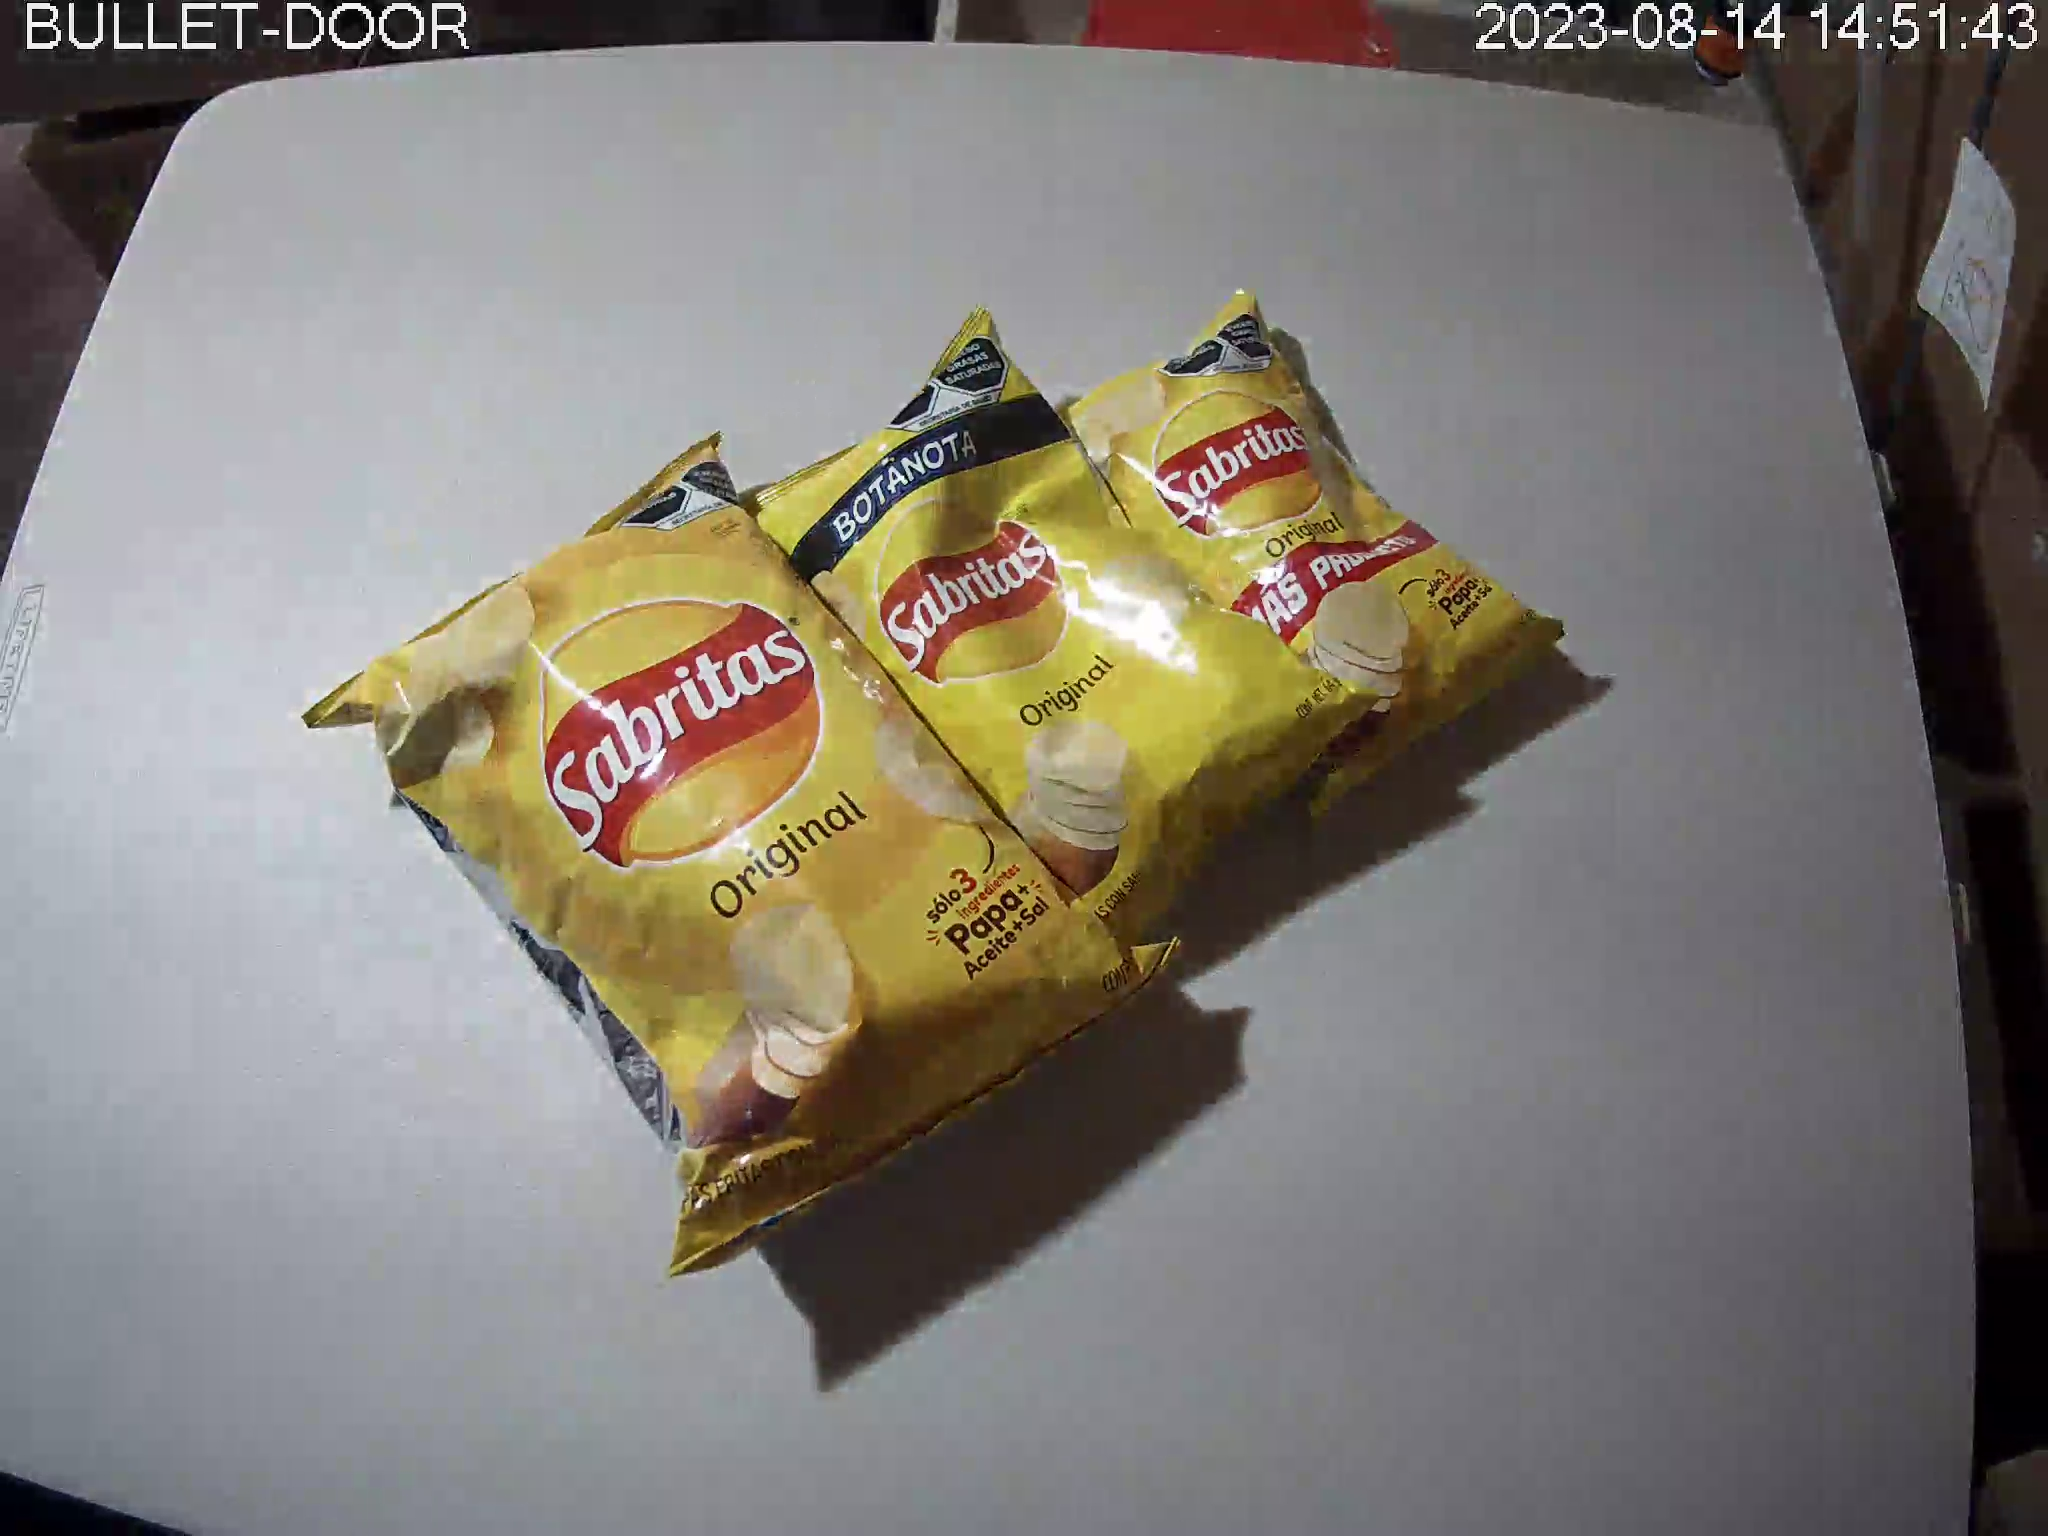Sabritas_160_F: (302, 434, 1184, 1273)
Sabritas_45_F: (1059, 290, 1572, 834)
Sabritas_64_F: (735, 315, 1377, 954)
